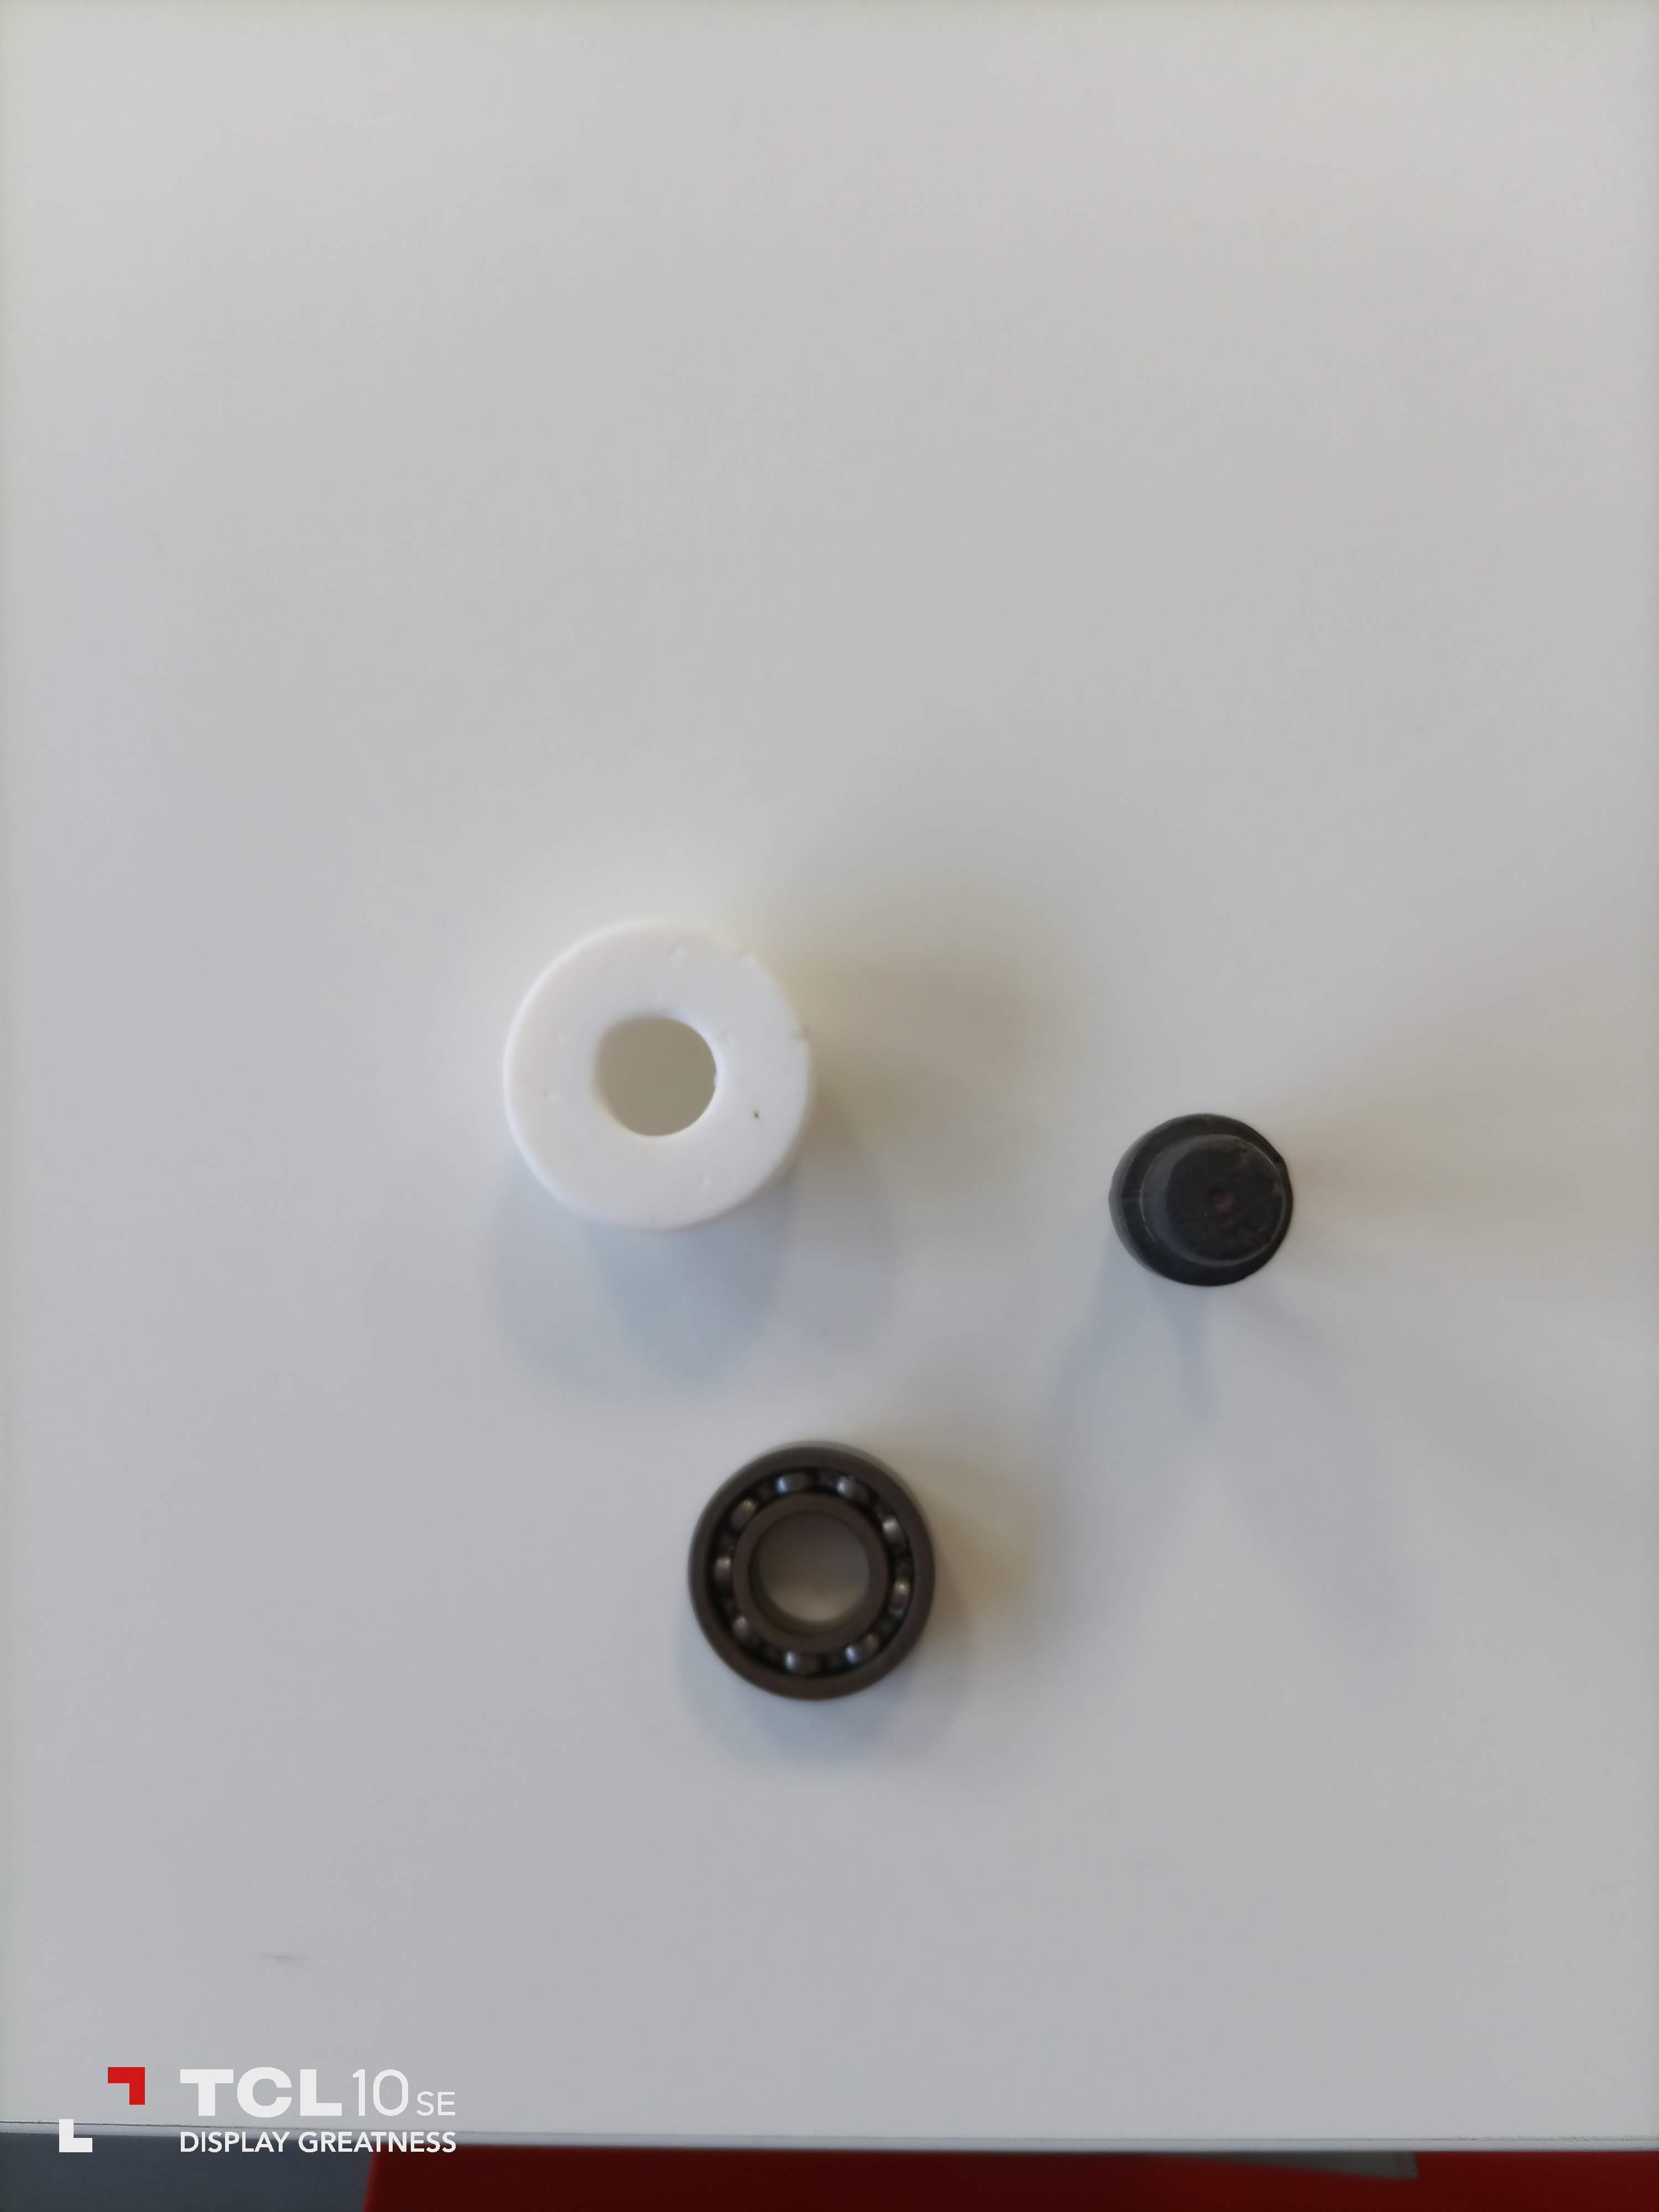Ardatza: (1110, 1113, 1302, 1291)
Roda: (701, 1433, 939, 1707)
Tapa: (505, 907, 814, 1231)
